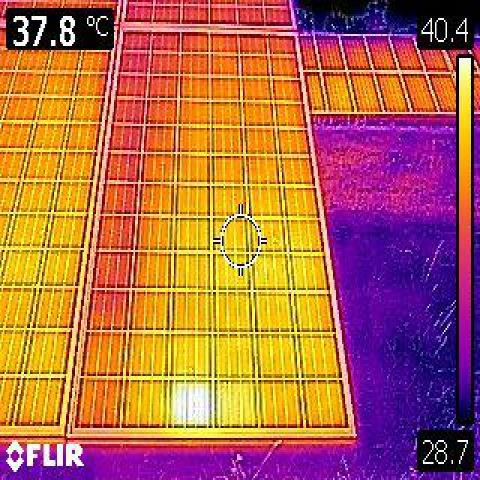fault: (168, 375, 209, 428)
